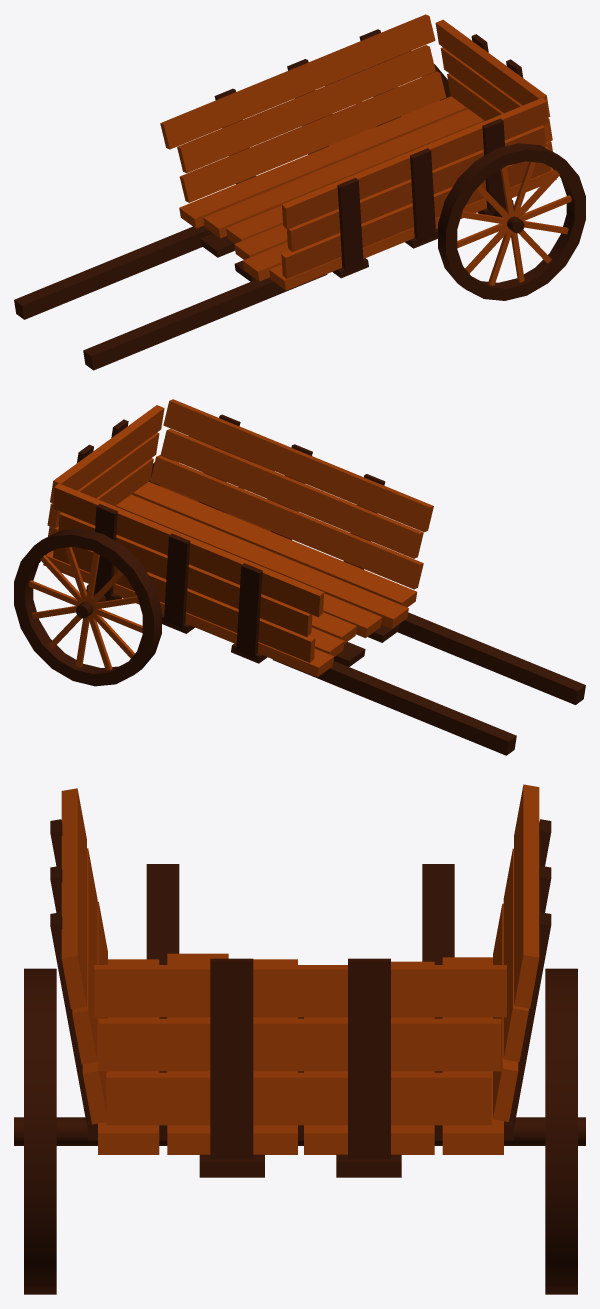
Rendered from CarretaMS.fbx.
The picture shows the model from 3 angles, top to bottom: view 1: azimuth 30°, elevation 25°; view 2: azimuth 150°, elevation 25°; view 3: azimuth 270°, elevation 25°; orthographic projection. The views are drawn at different scales.
Visible parts, largest first — view 1: Box057; view 2: Box057; view 3: Box057.
Boxes of the visible parts, left/top/right/bottom form: Box057: left=14, top=14, right=585, bottom=370; Box057: left=14, top=399, right=585, bottom=755; Box057: left=14, top=784, right=585, bottom=1294.
Bounding box in the file's own units: 65.73 × 24.83 × 35.09.
